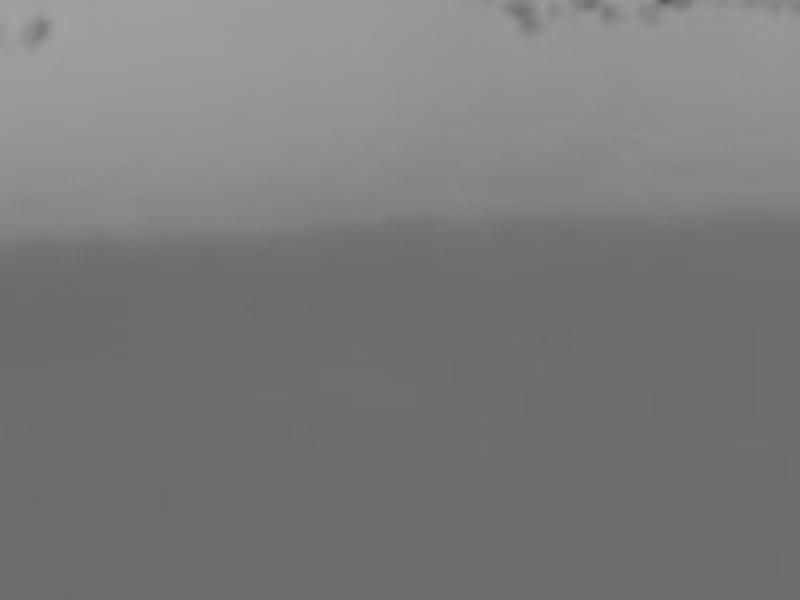defect: (23, 11, 59, 47), (507, 1, 536, 40), (641, 1, 673, 24), (595, 6, 619, 25), (543, 1, 561, 23), (578, 1, 601, 16), (674, 1, 701, 11)
